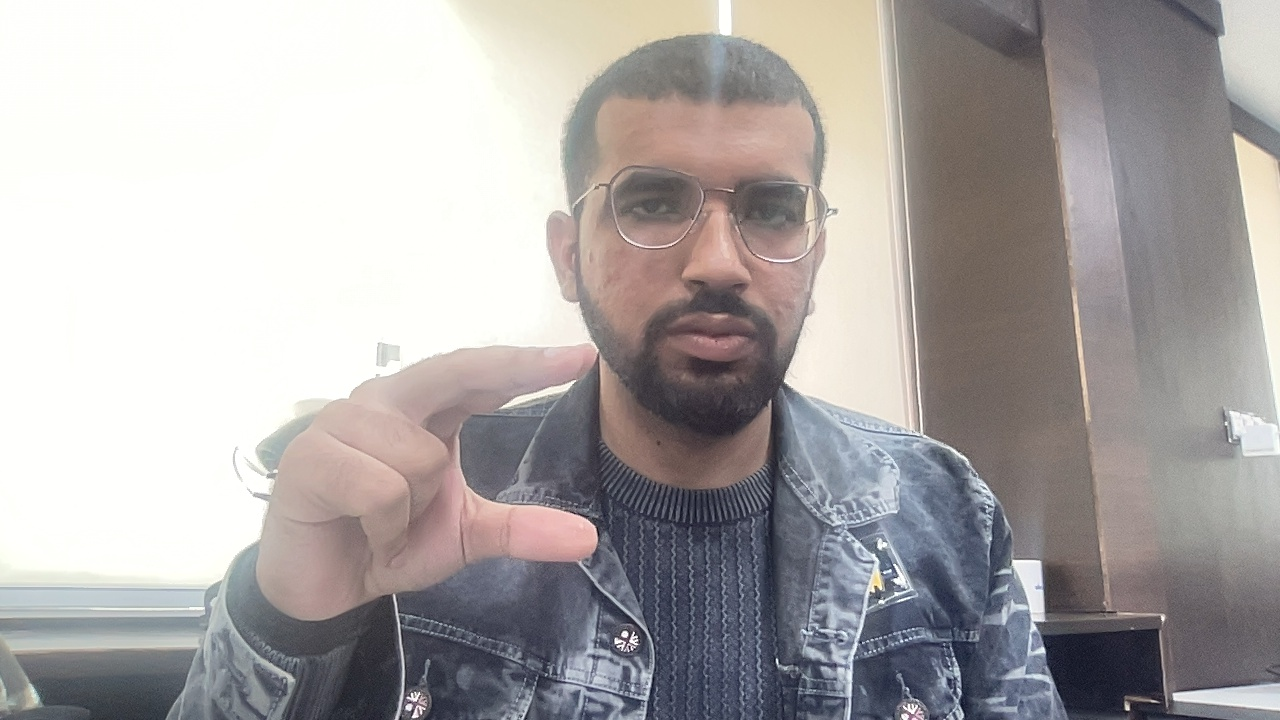No: (193, 331, 646, 627)
